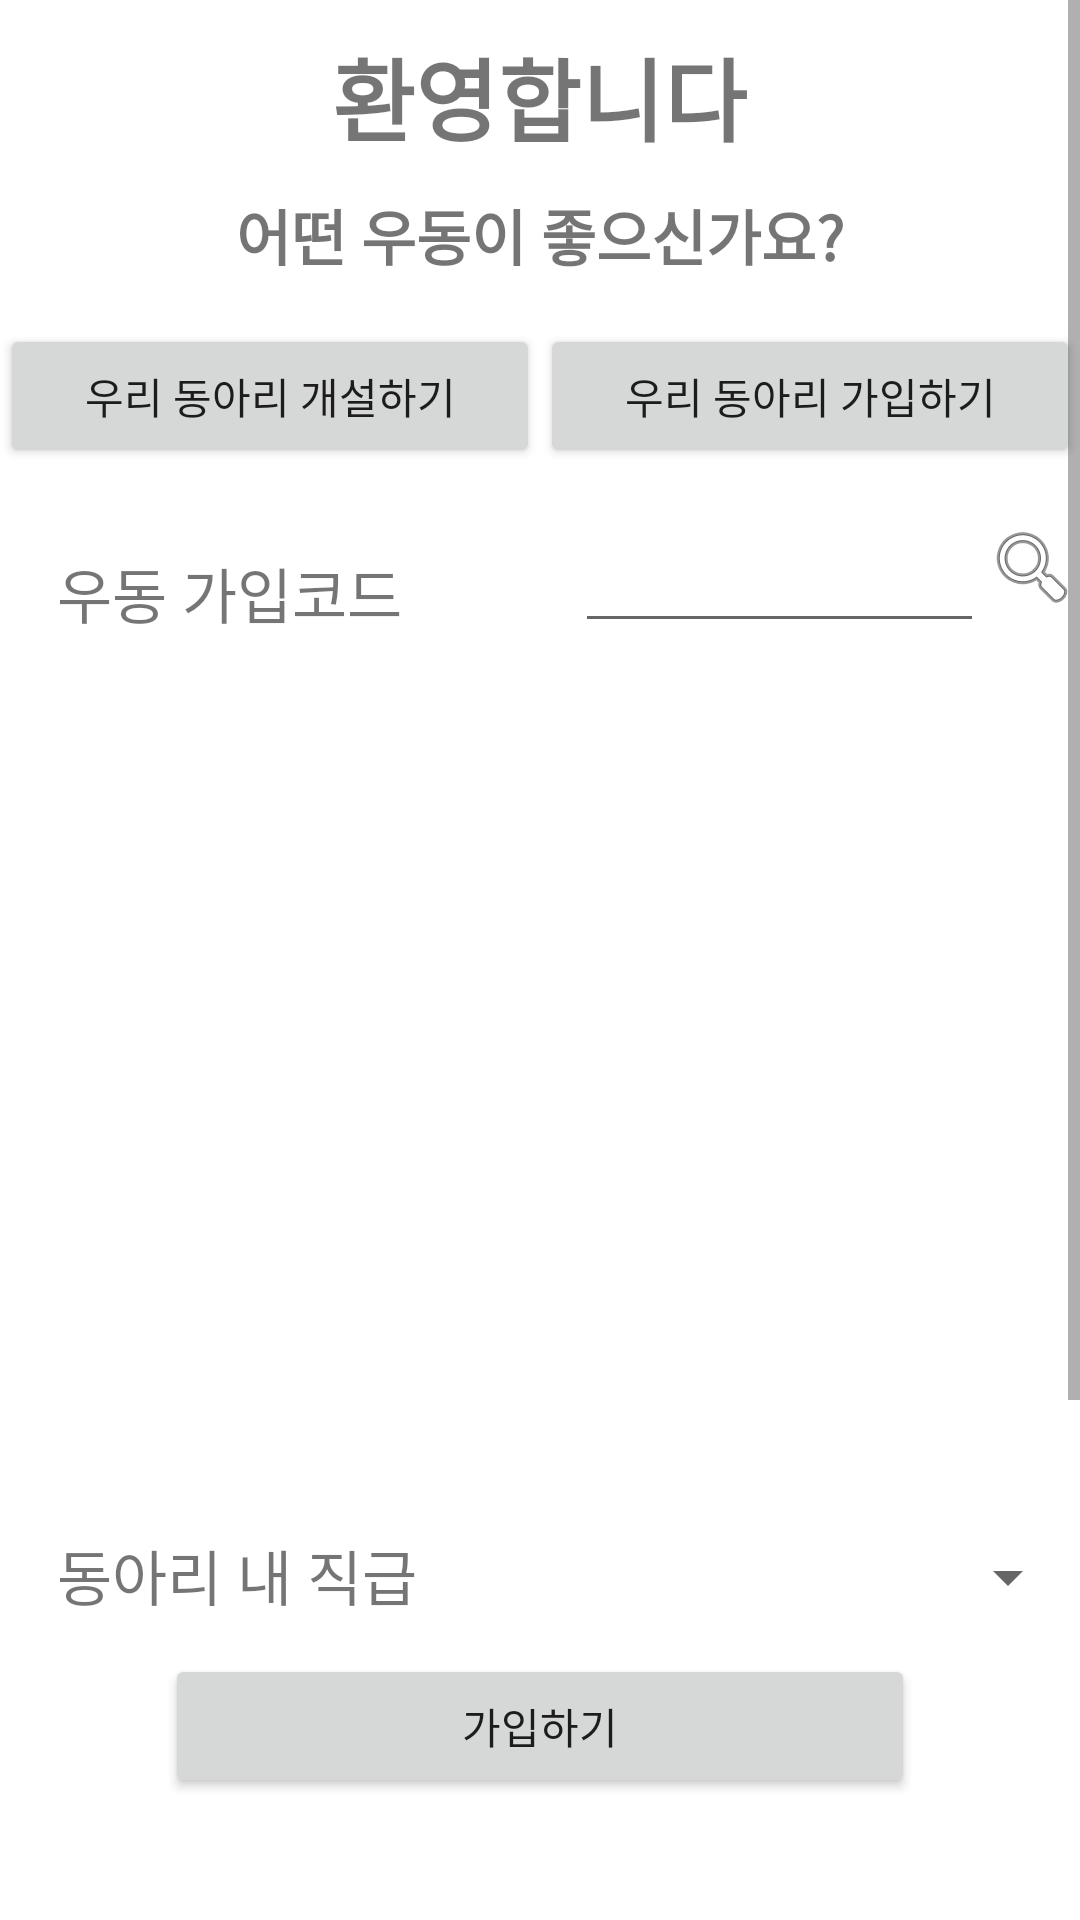

Where to tap for icons on this 1080px x 1920px app screen, as (x=x, y=y):
search: (x=1038, y=567)
